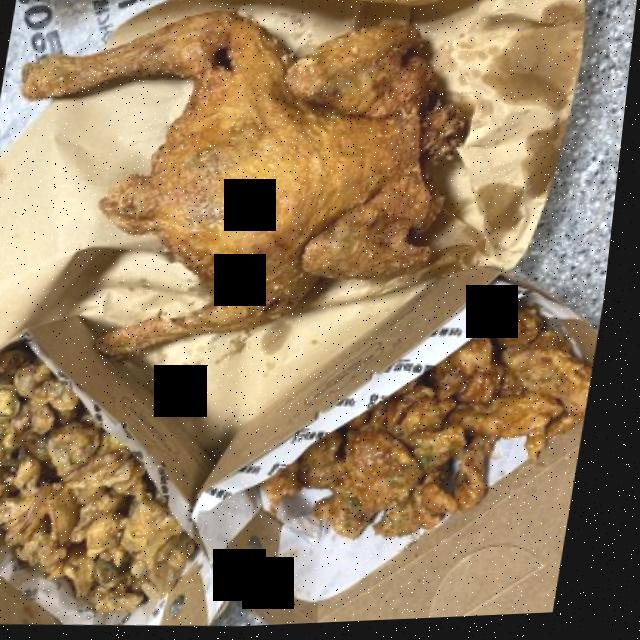Frango: (0, 0, 506, 312)
